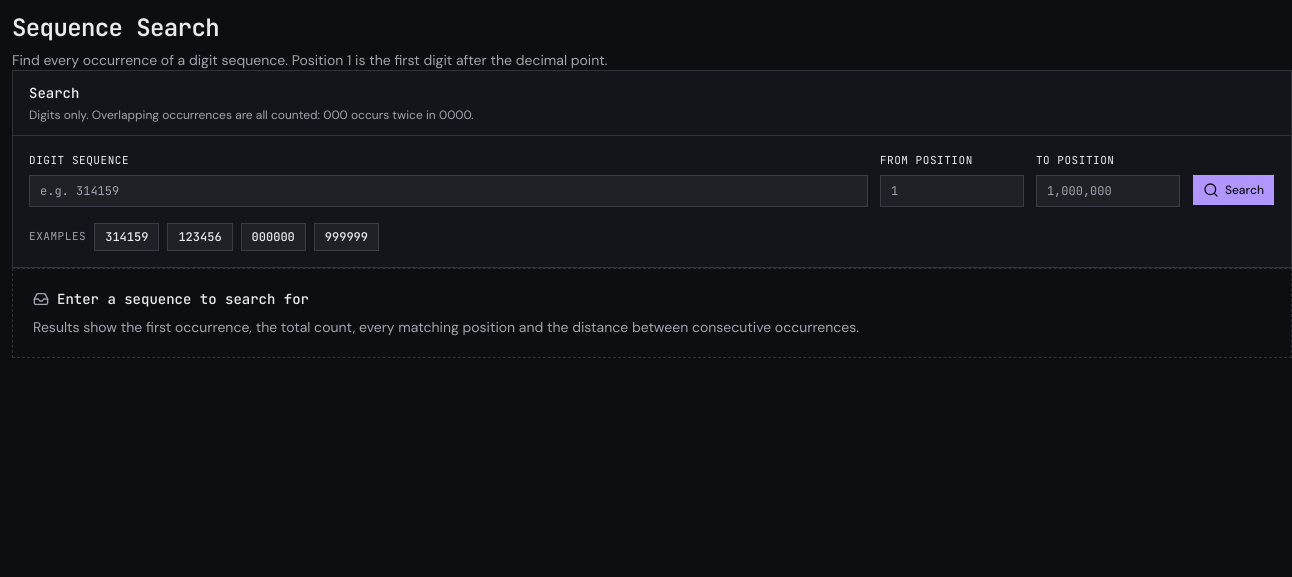
Scenario: SearchView › strips non-digits as the user types and puts the search in the URL
The width and height of the screenshot is (1292, 577).
Step 1. Type "3.14159" into the field labelled "Digit sequence" → {"x": 448, "y": 190}, box [29,174,868,206]
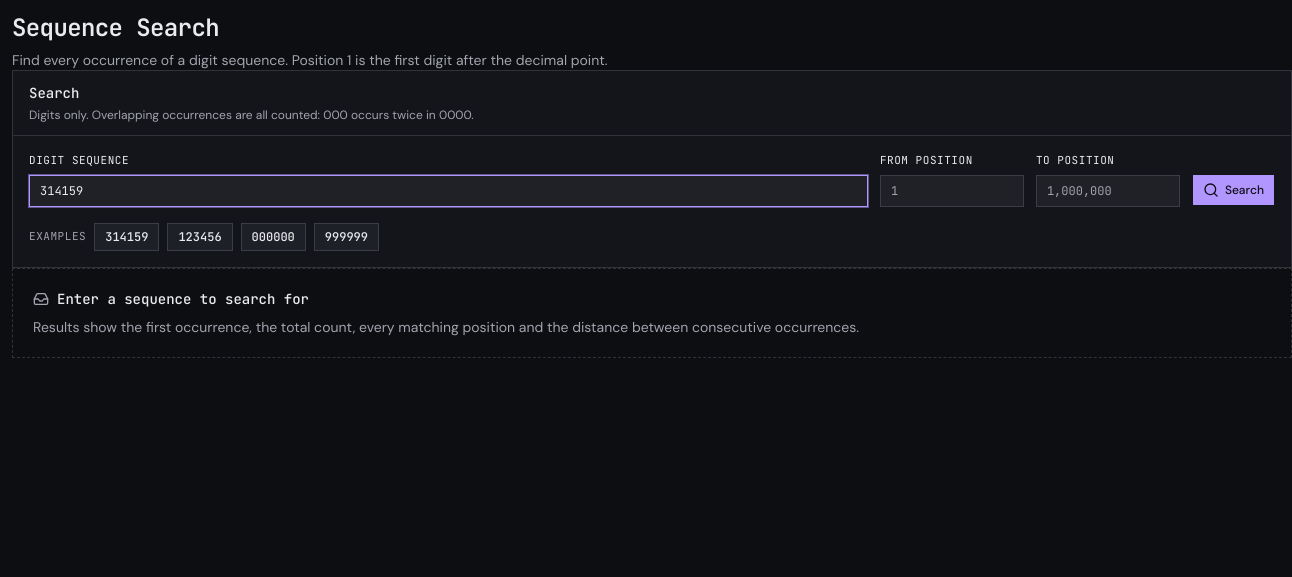
Expected: the field labelled "Digit sequence" holds "314159", [29,174,868,206]
Step 2. Click the button "Search" → {"x": 1233, "y": 190}, box [1192,174,1275,206]
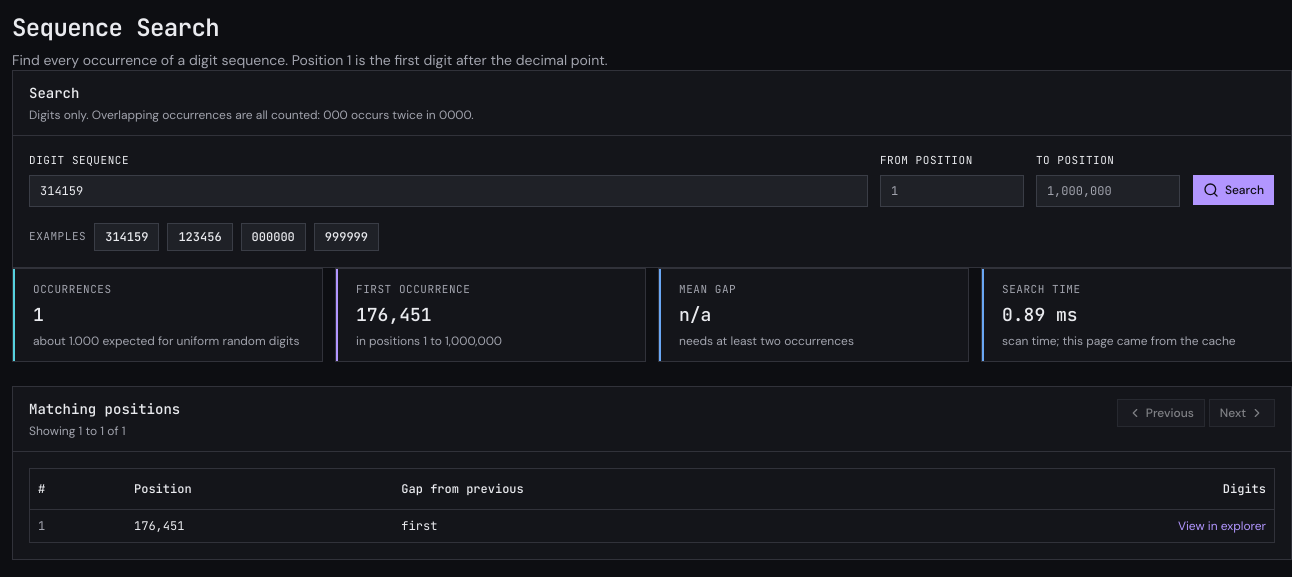
Expected: the text "1" is shown, [33,303,44,326]
